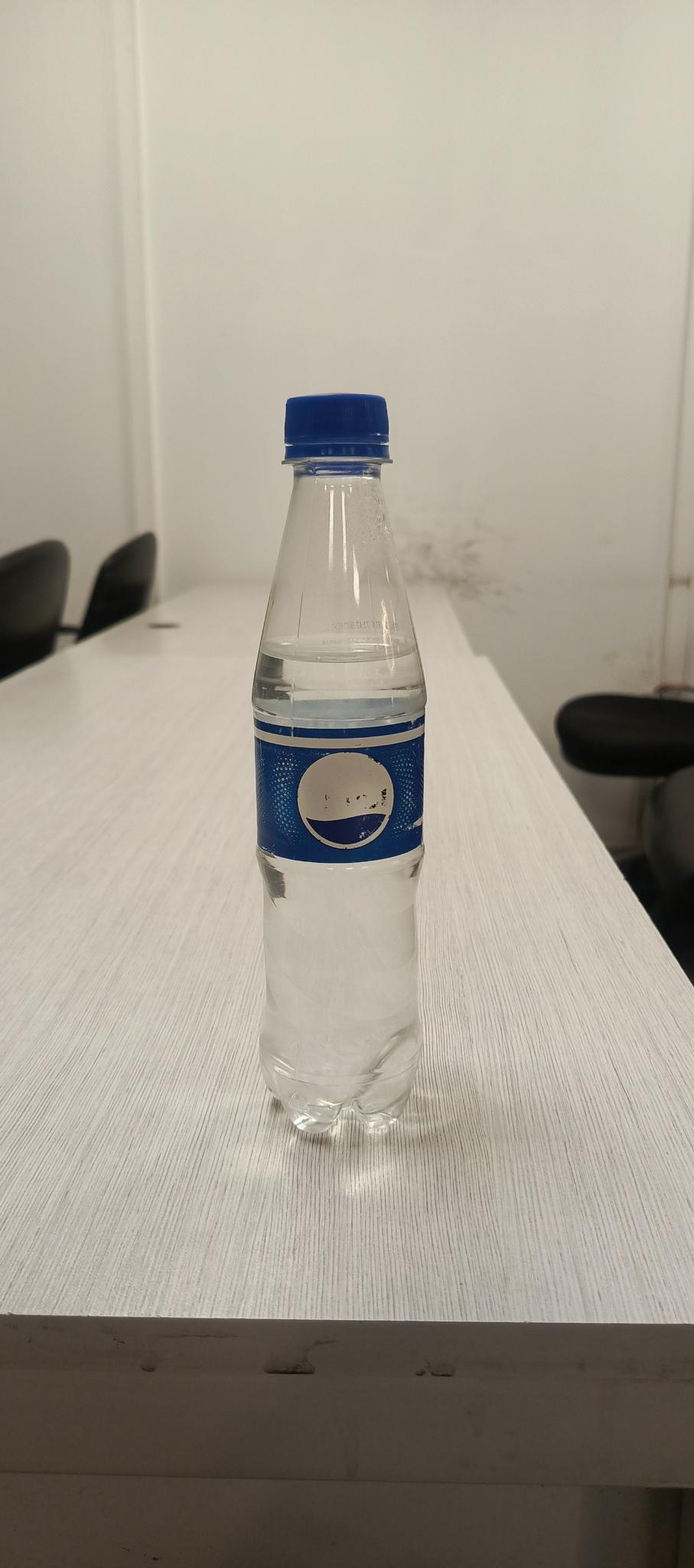Pepsi Bottle: (217, 382, 492, 1174), (222, 384, 479, 1171)
